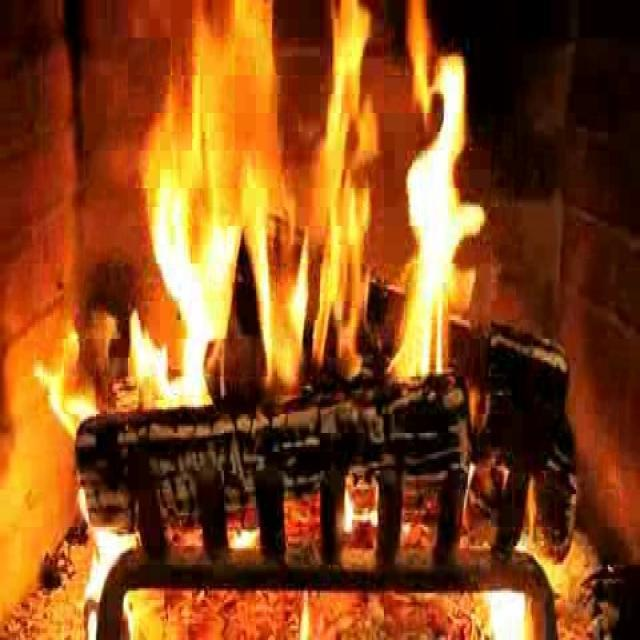Fire: (149, 24, 517, 432)
